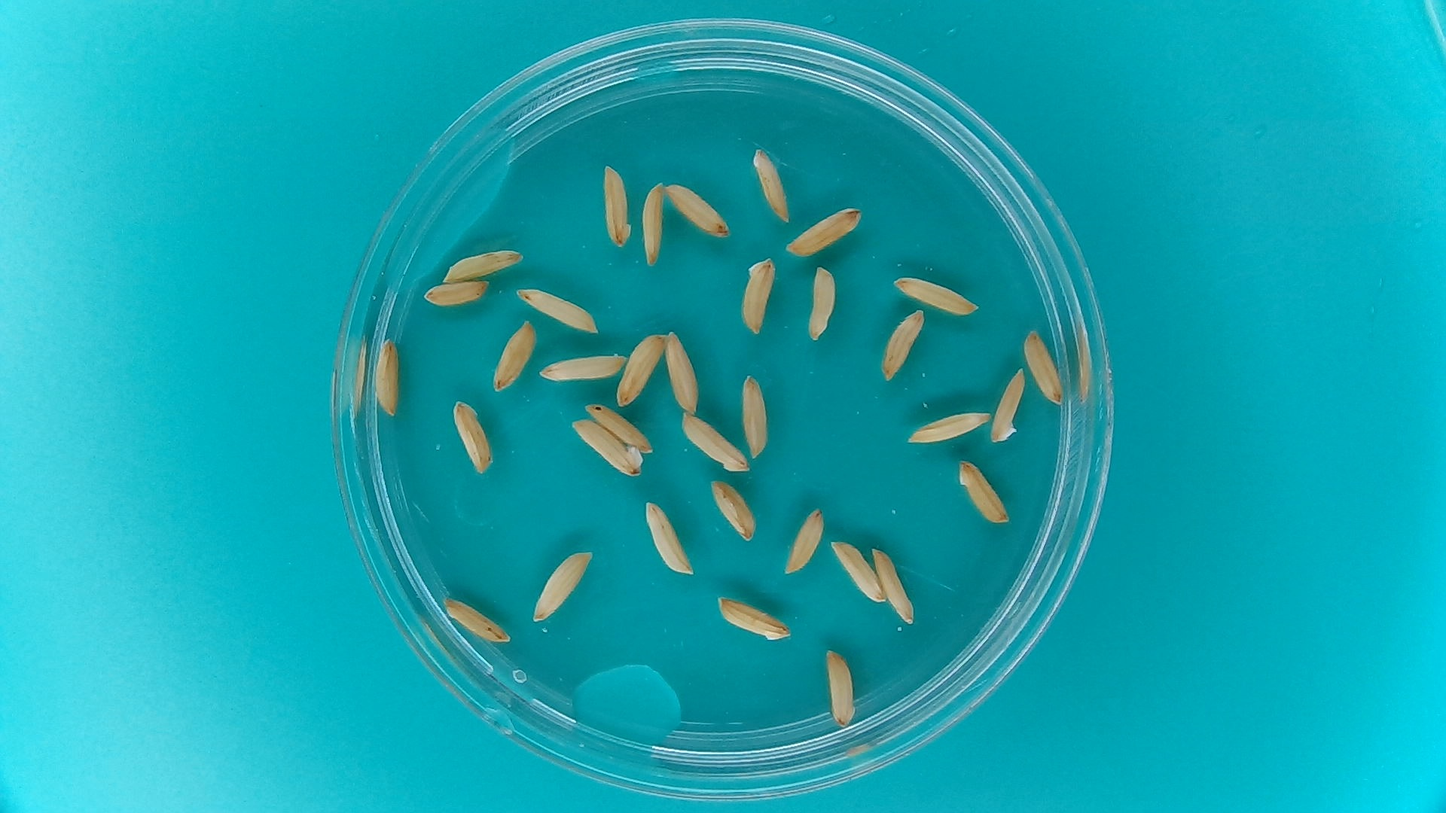no: (531, 550, 598, 624), (571, 416, 645, 478), (677, 410, 749, 473), (616, 331, 671, 409), (513, 286, 599, 335), (643, 499, 695, 579), (784, 206, 863, 258), (664, 181, 733, 240), (715, 593, 794, 644), (582, 401, 655, 455), (892, 275, 982, 318), (830, 537, 887, 604), (958, 458, 1012, 525), (439, 594, 511, 644), (880, 307, 926, 385), (491, 318, 538, 394), (1023, 327, 1066, 408), (872, 547, 915, 625), (440, 247, 526, 285), (662, 330, 700, 416), (452, 398, 494, 474), (752, 145, 792, 224), (988, 366, 1027, 444), (739, 256, 777, 336), (906, 410, 992, 445), (784, 508, 827, 577), (599, 162, 633, 249), (538, 352, 630, 384), (709, 479, 756, 540), (824, 646, 856, 729), (739, 372, 769, 460), (807, 264, 840, 343), (374, 335, 401, 420), (642, 178, 665, 269), (423, 279, 494, 306)
